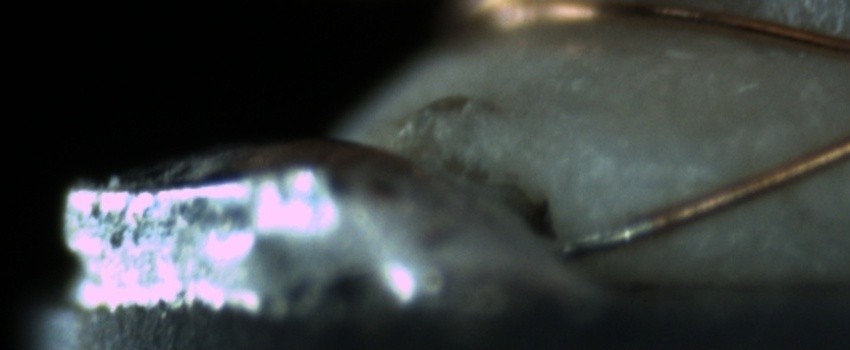DL: (595, 141, 738, 200)
TS: (559, 212, 653, 256)
